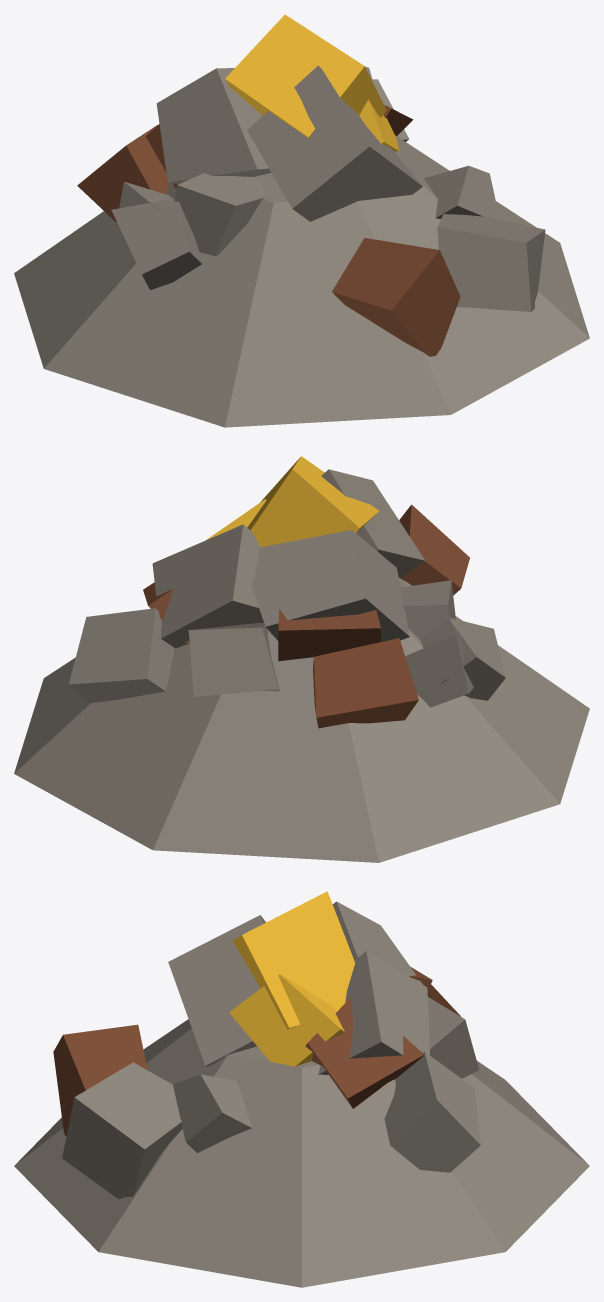
The model's file is SM_Ore_Pile.obj.
The picture shows the model from 3 angles, top to bottom: view 1: azimuth 30°, elevation 25°; view 2: azimuth 150°, elevation 25°; view 3: azimuth 270°, elevation 25°; orthographic projection. The views are drawn at different scales.
Visible parts, largest first — view 1: SM_Ore_Pile; view 2: SM_Ore_Pile; view 3: SM_Ore_Pile.
Part boxes in pixels (bbox=[...]): SM_Ore_Pile: bbox=[14, 14, 589, 427]; SM_Ore_Pile: bbox=[14, 456, 589, 862]; SM_Ore_Pile: bbox=[14, 891, 589, 1287].
Size of the model in its own units: 1.1 by 0.5755 by 1.1.
